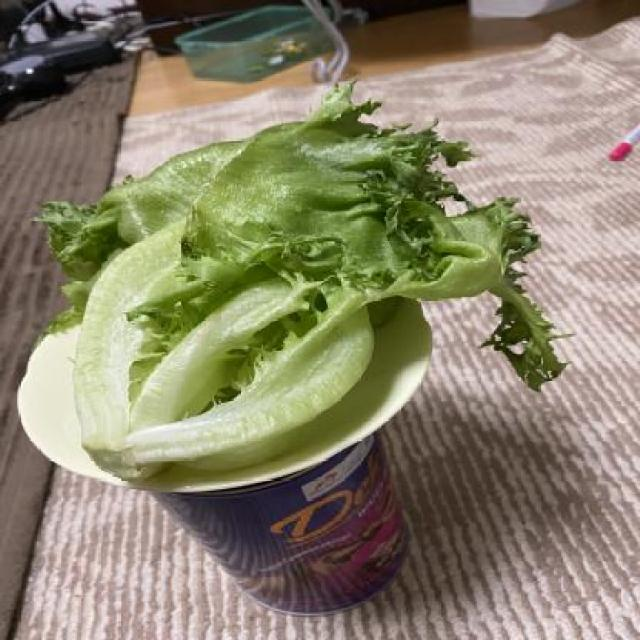lettuce: (34, 76, 571, 486)
